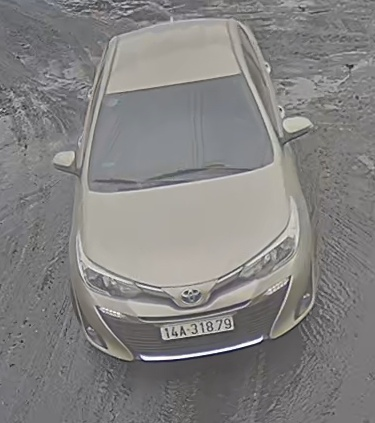vehicle plate: (156, 312, 239, 345)
